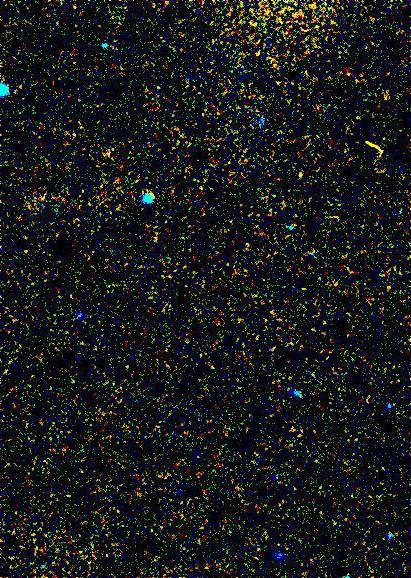star: (304, 361, 334, 391)
